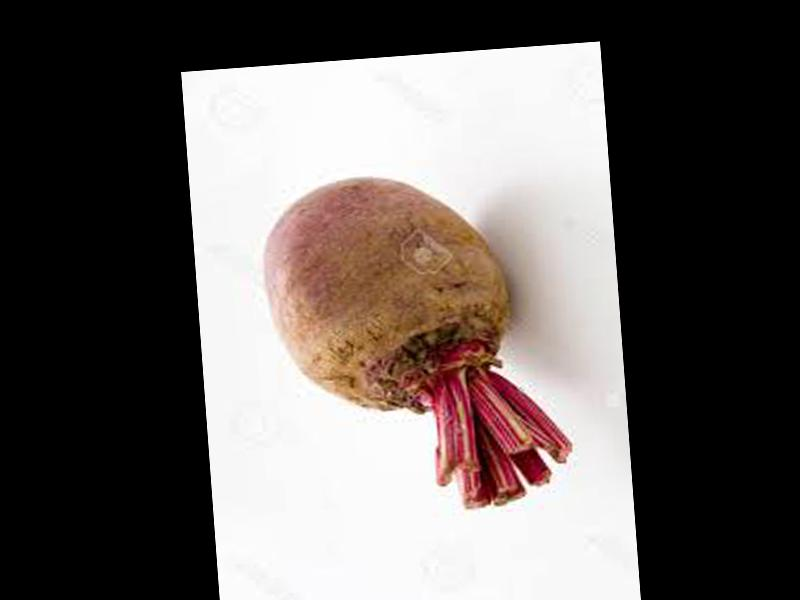Beet: (256, 162, 578, 522)
